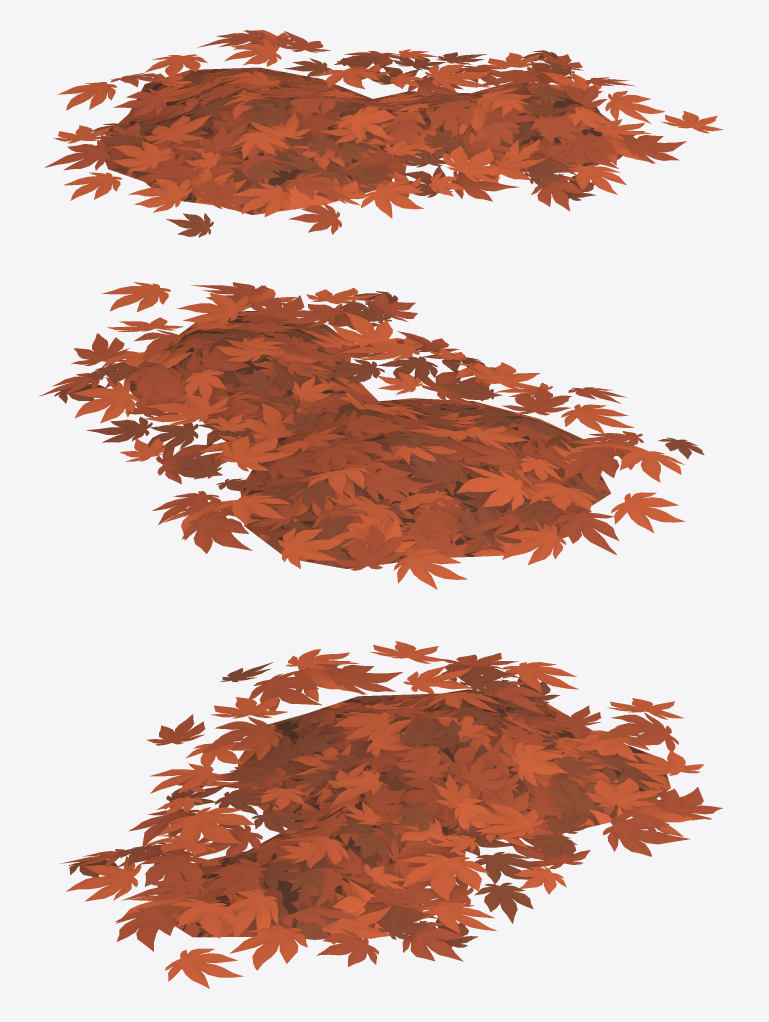
The model's file is SM_Env_Maple_Pile_02.fbx.
The picture shows the model from 3 angles, top to bottom: view 1: azimuth 30°, elevation 25°; view 2: azimuth 150°, elevation 25°; view 3: azimuth 270°, elevation 25°; orthographic projection. The views are drawn at different scales.
Parts seen in each view (by area): view 1: SM_Env_Maple_Pile_02; view 2: SM_Env_Maple_Pile_02; view 3: SM_Env_Maple_Pile_02.
Part boxes in pixels (x1,y1,x2,y2): SM_Env_Maple_Pile_02: (45,30,723,237); SM_Env_Maple_Pile_02: (39,282,704,589); SM_Env_Maple_Pile_02: (61,641,722,988).
Size of the model in its own units: 537 by 32.07 by 444.
